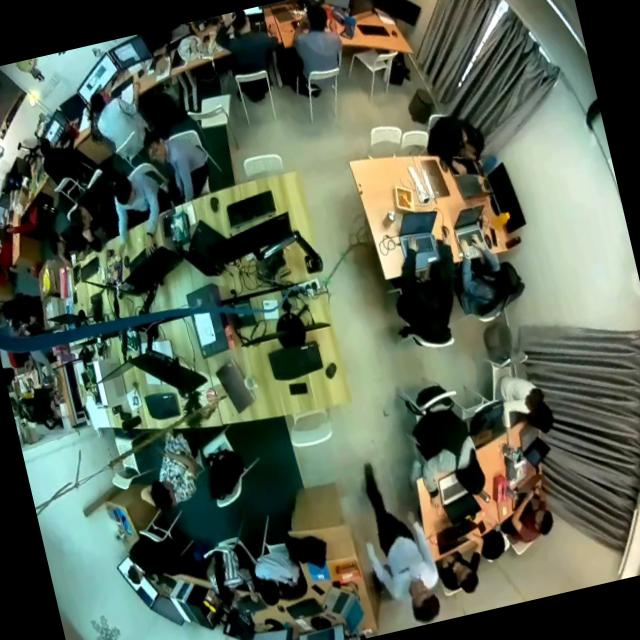employee_tag: (397, 560, 413, 580)
